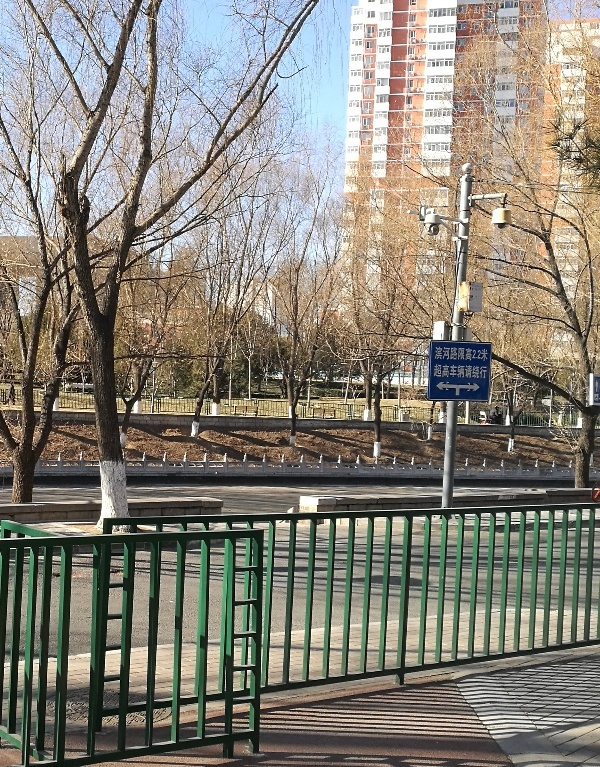text: (449, 364, 464, 380), (465, 364, 480, 380), (449, 347, 464, 362), (465, 347, 480, 362), (434, 364, 448, 380), (436, 347, 448, 362), (481, 364, 489, 380), (481, 347, 489, 362)
